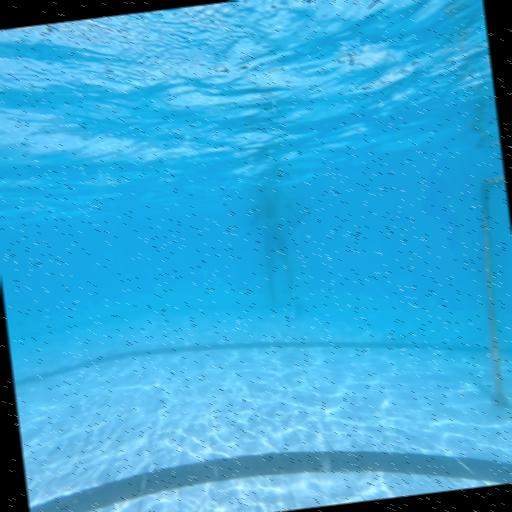gate: (464, 175, 512, 405)
